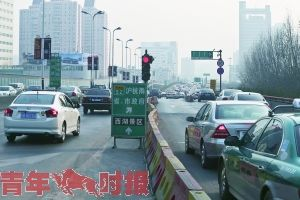red: (139, 53, 152, 83)
